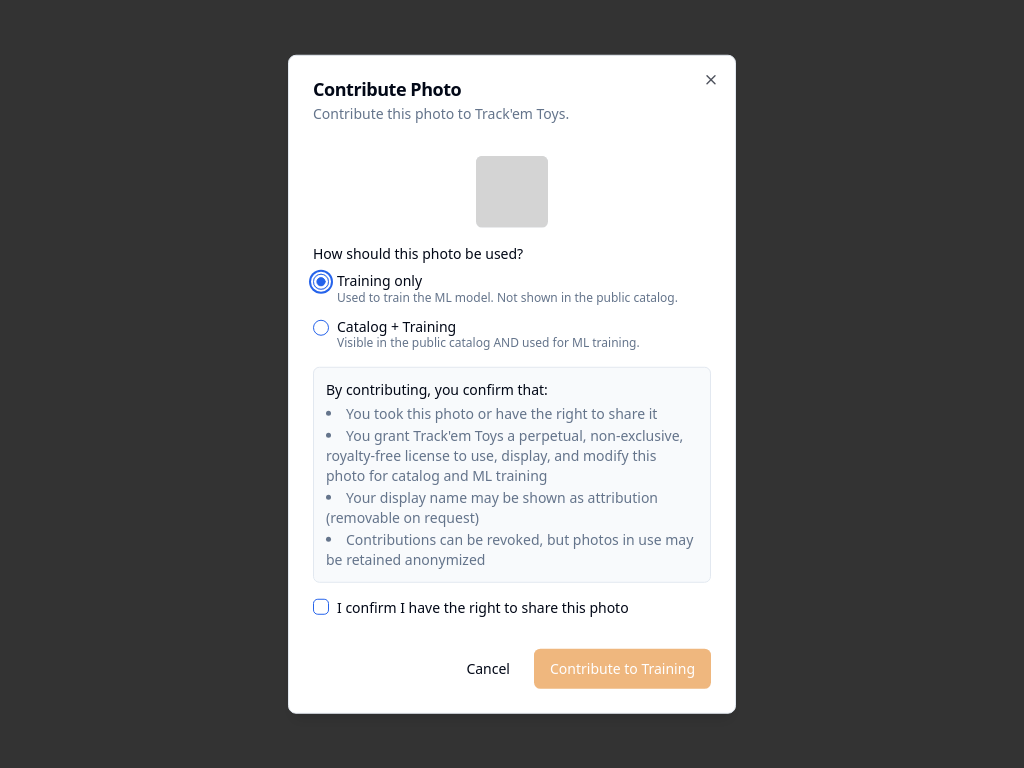
Test case: ContributeDialog › switches button label to "Contribute to Catalog" when catalog_and_training is selected
Click the radio button named "Catalog + Training" next to "Catalog + Training" at (321, 327), box [313,319,329,335]
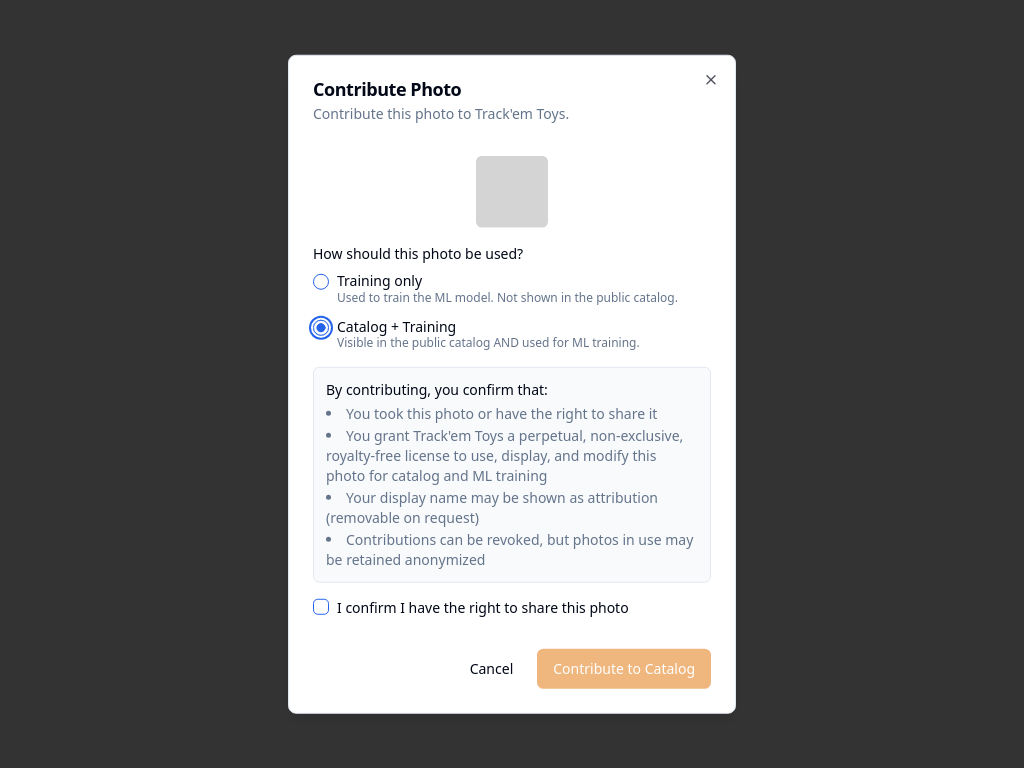
Result: the button "Contribute to Catalog" is shown at [537,648,711,688]
Result: the button "Contribute to Training" is gone
